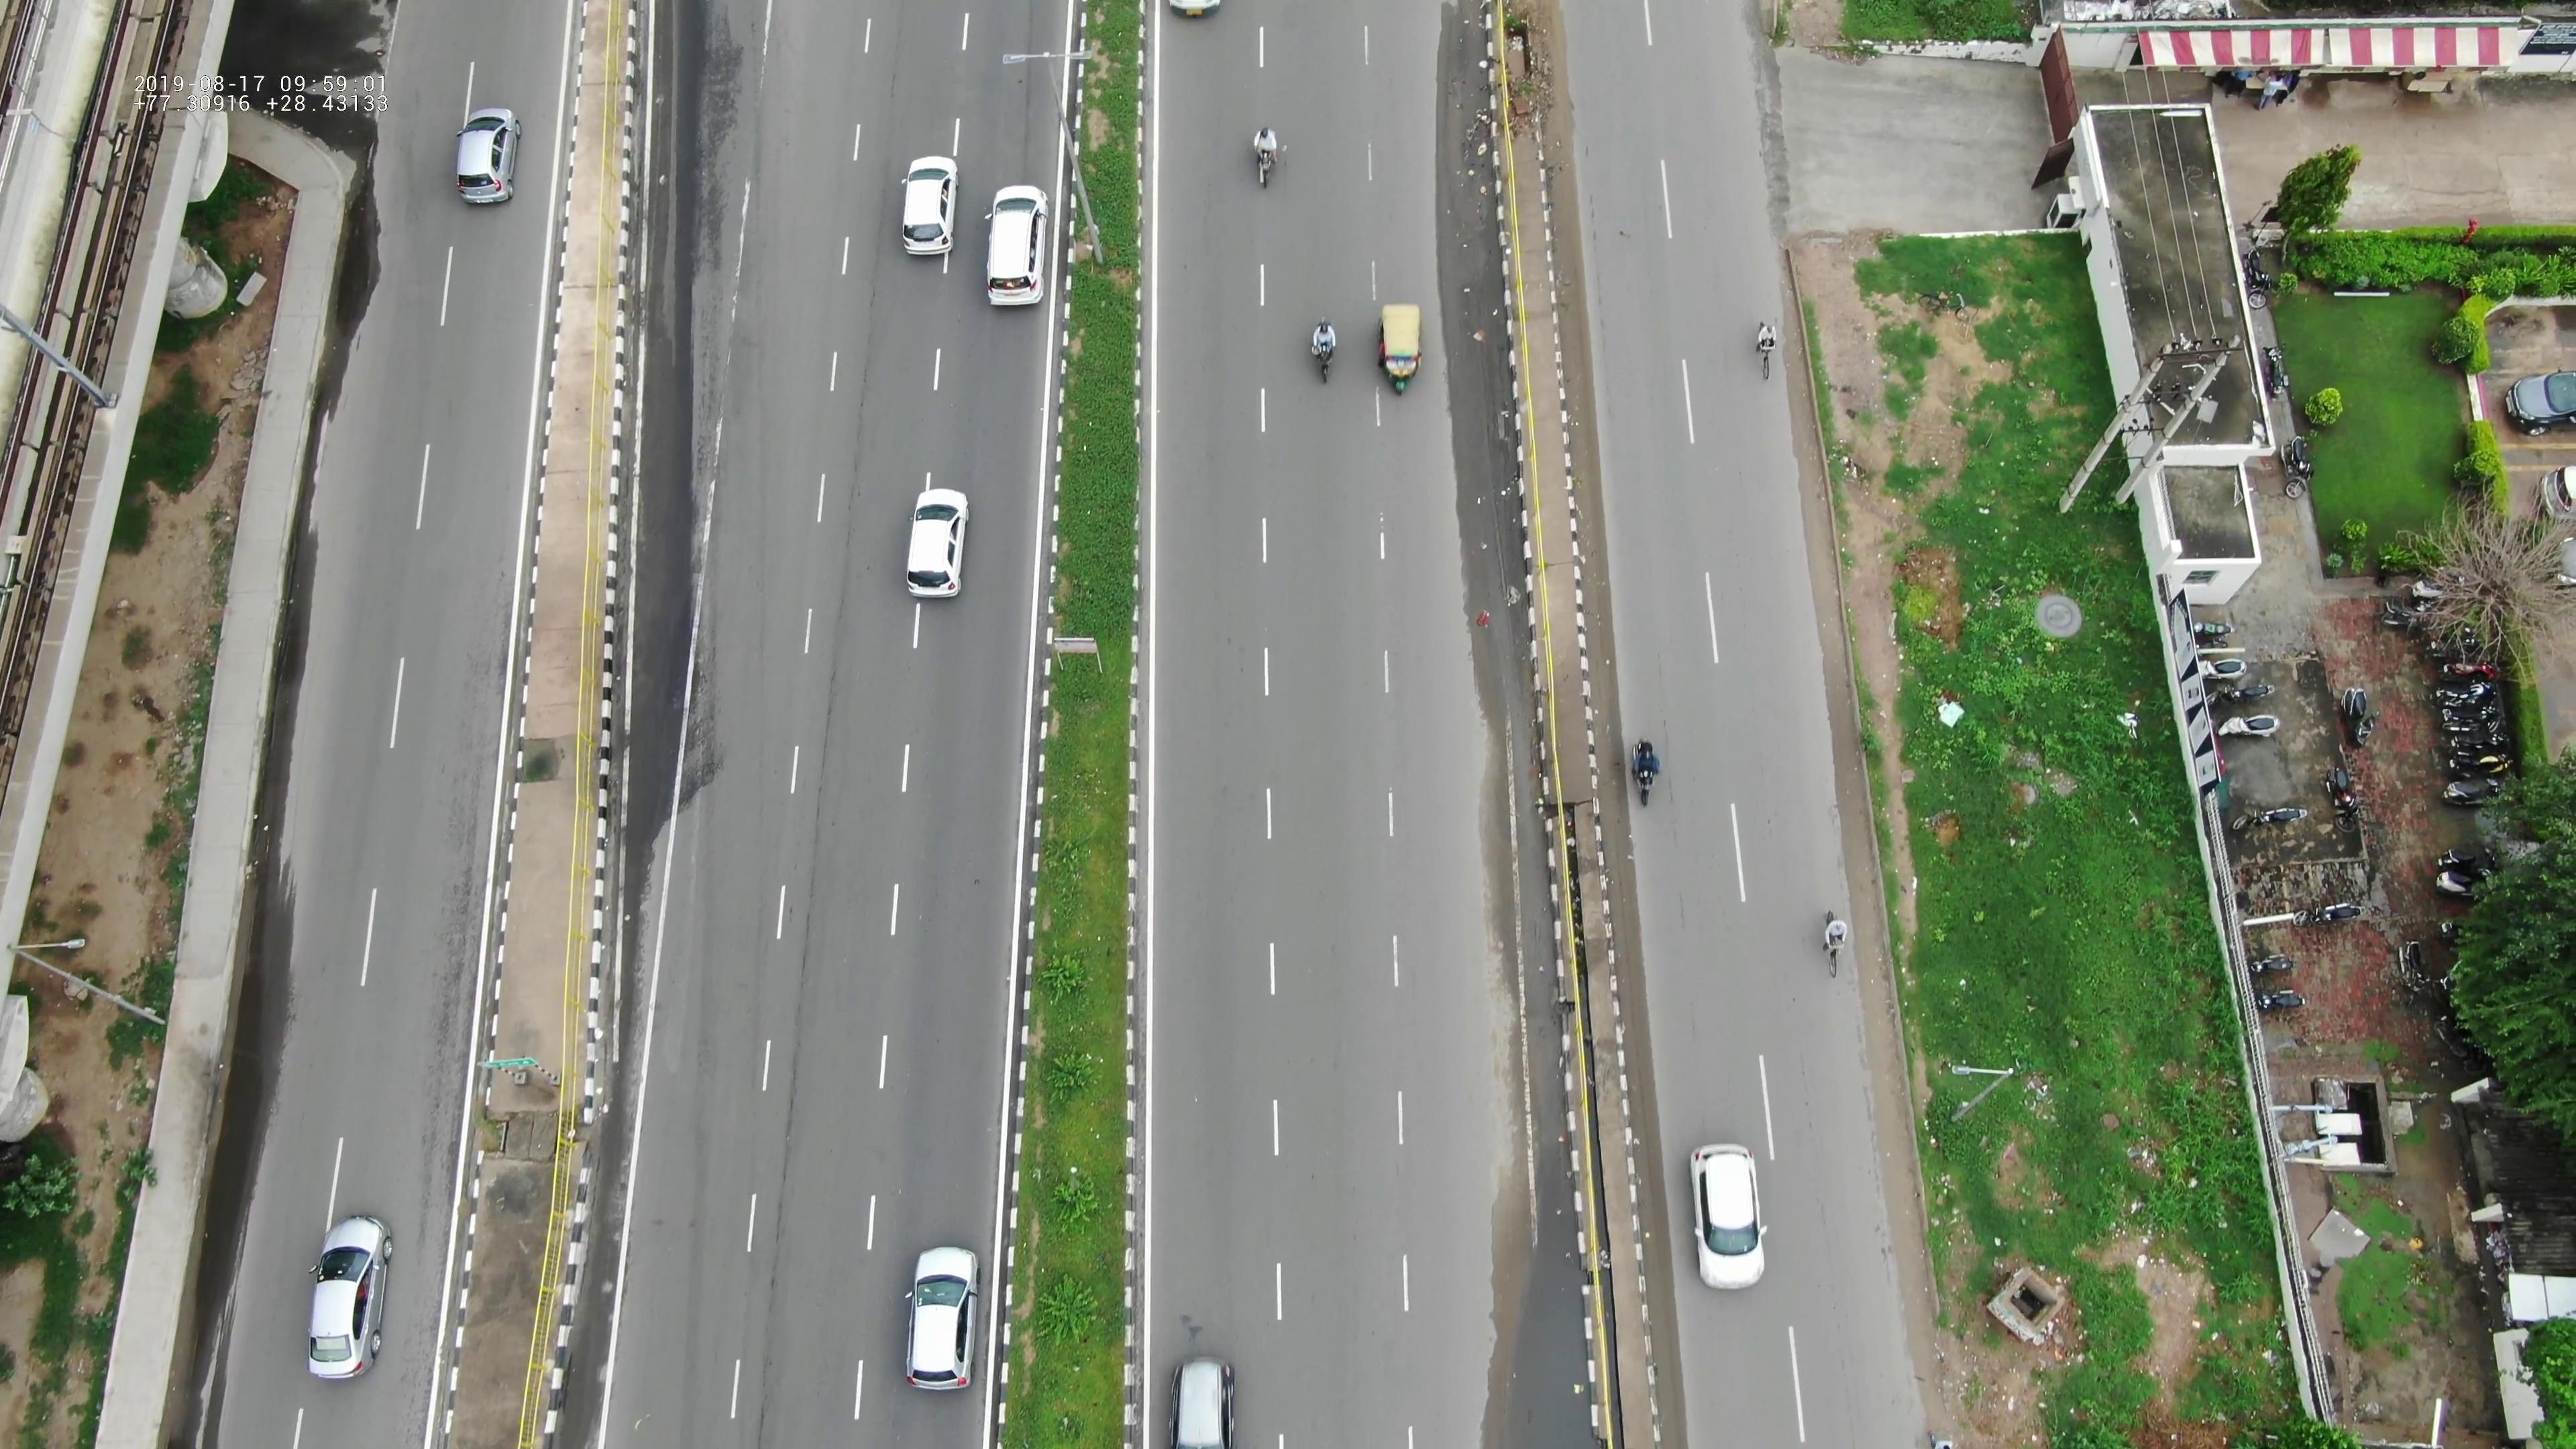Waterlogging: (1493, 1189, 1599, 1445)
